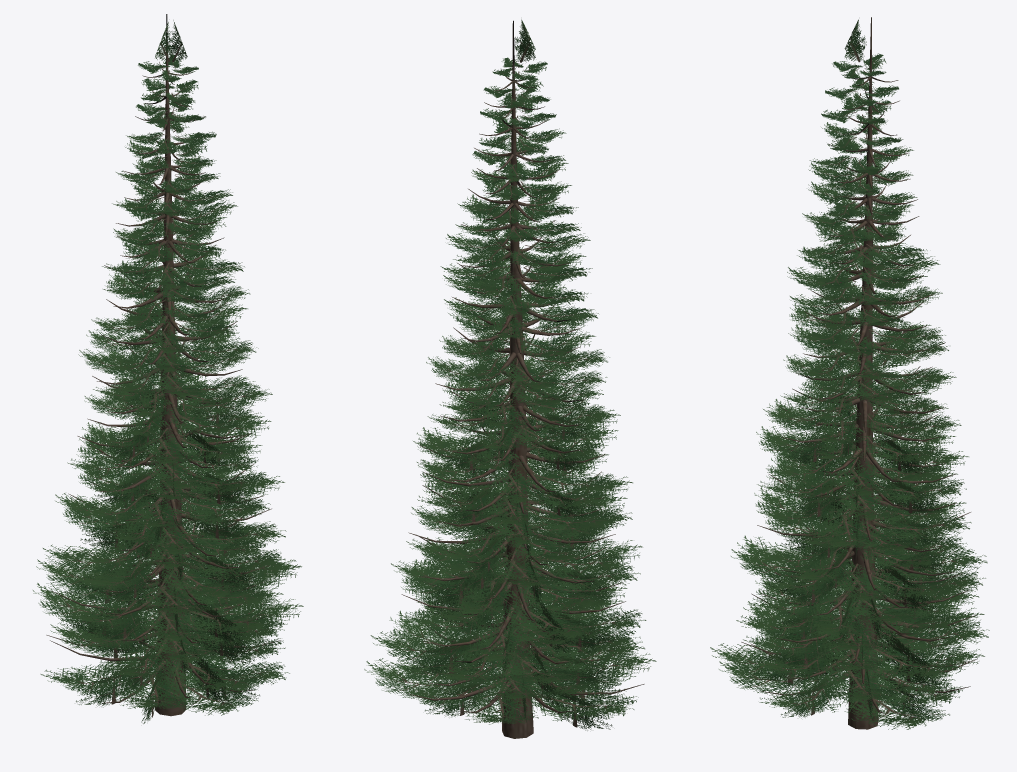
The model's file is hl-spruce-lod0.glb.
3 views of the same model, side by side, from view 1: azimuth 30°, elevation 25°; view 2: azimuth 150°, elevation 25°; view 3: azimuth 270°, elevation 25° (orthographic). The views are drawn at different scales.
Parts seen in each view (by area): view 1: HeroSpruce_LOD0; view 2: HeroSpruce_LOD0; view 3: HeroSpruce_LOD0.
Part boxes in pixels (<box>): HeroSpruce_LOD0: <box>33,14,303,723</box>; HeroSpruce_LOD0: <box>364,19,656,738</box>; HeroSpruce_LOD0: <box>710,17,989,729</box>.
Bounding box in the file's own units: 6.5 × 16.06 × 6.22.
2 materials, 2 textured.
